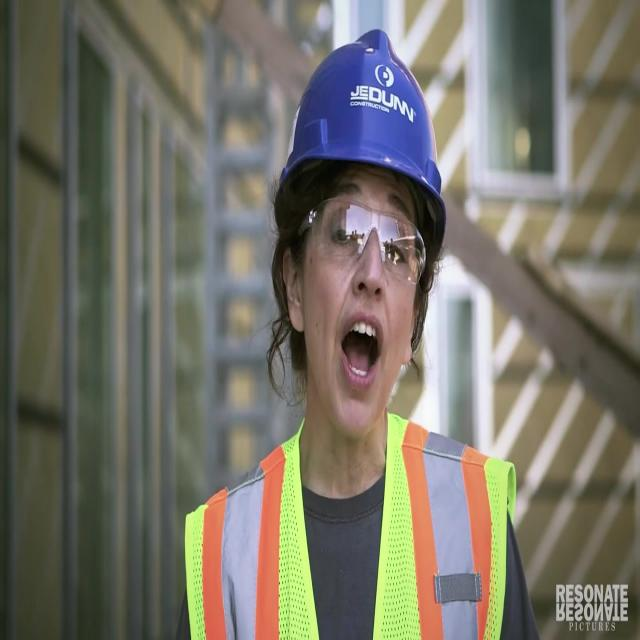Reflective-Jacket: (181, 409, 525, 640)
Safety-Helmet: (266, 26, 452, 250)
